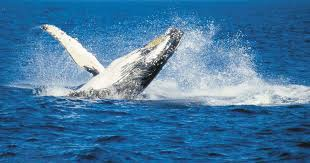humpback: (76, 25, 185, 98)
